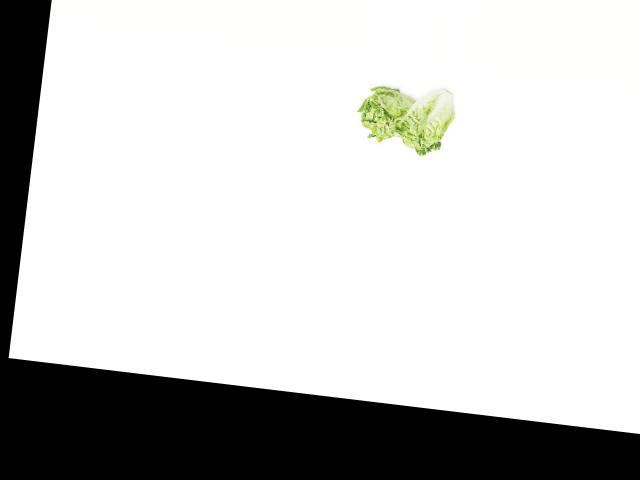lettuce: (354, 75, 422, 147)
